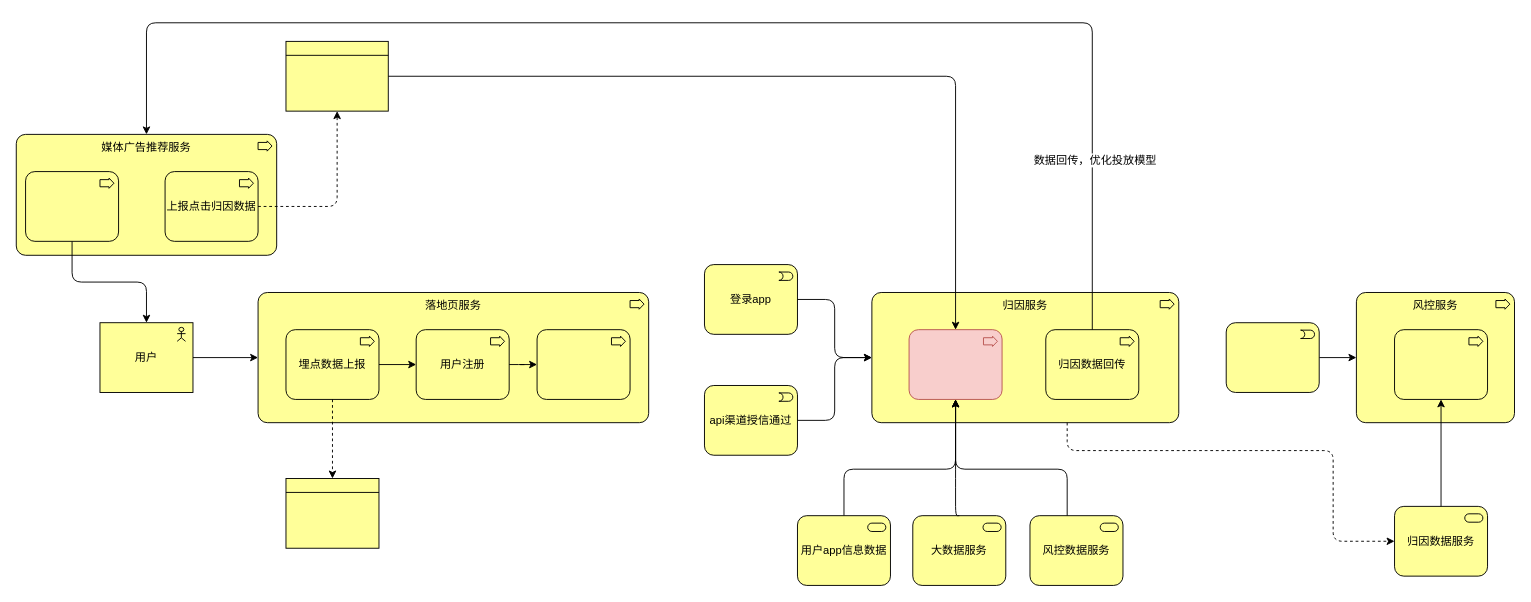
This 1531x602 diagram has some shape labels left out. The centre of each missing label's shape, as x and y in pixels:
价值归因: (x=955, y=364)
埋点数据: (x=332, y=513)
引导下载app: (x=583, y=364)
授信激活: (x=1272, y=357)
智能投放广告: (x=72, y=206)
激活决策: (x=1441, y=364)
用户点击监测数据: (x=336, y=75)
